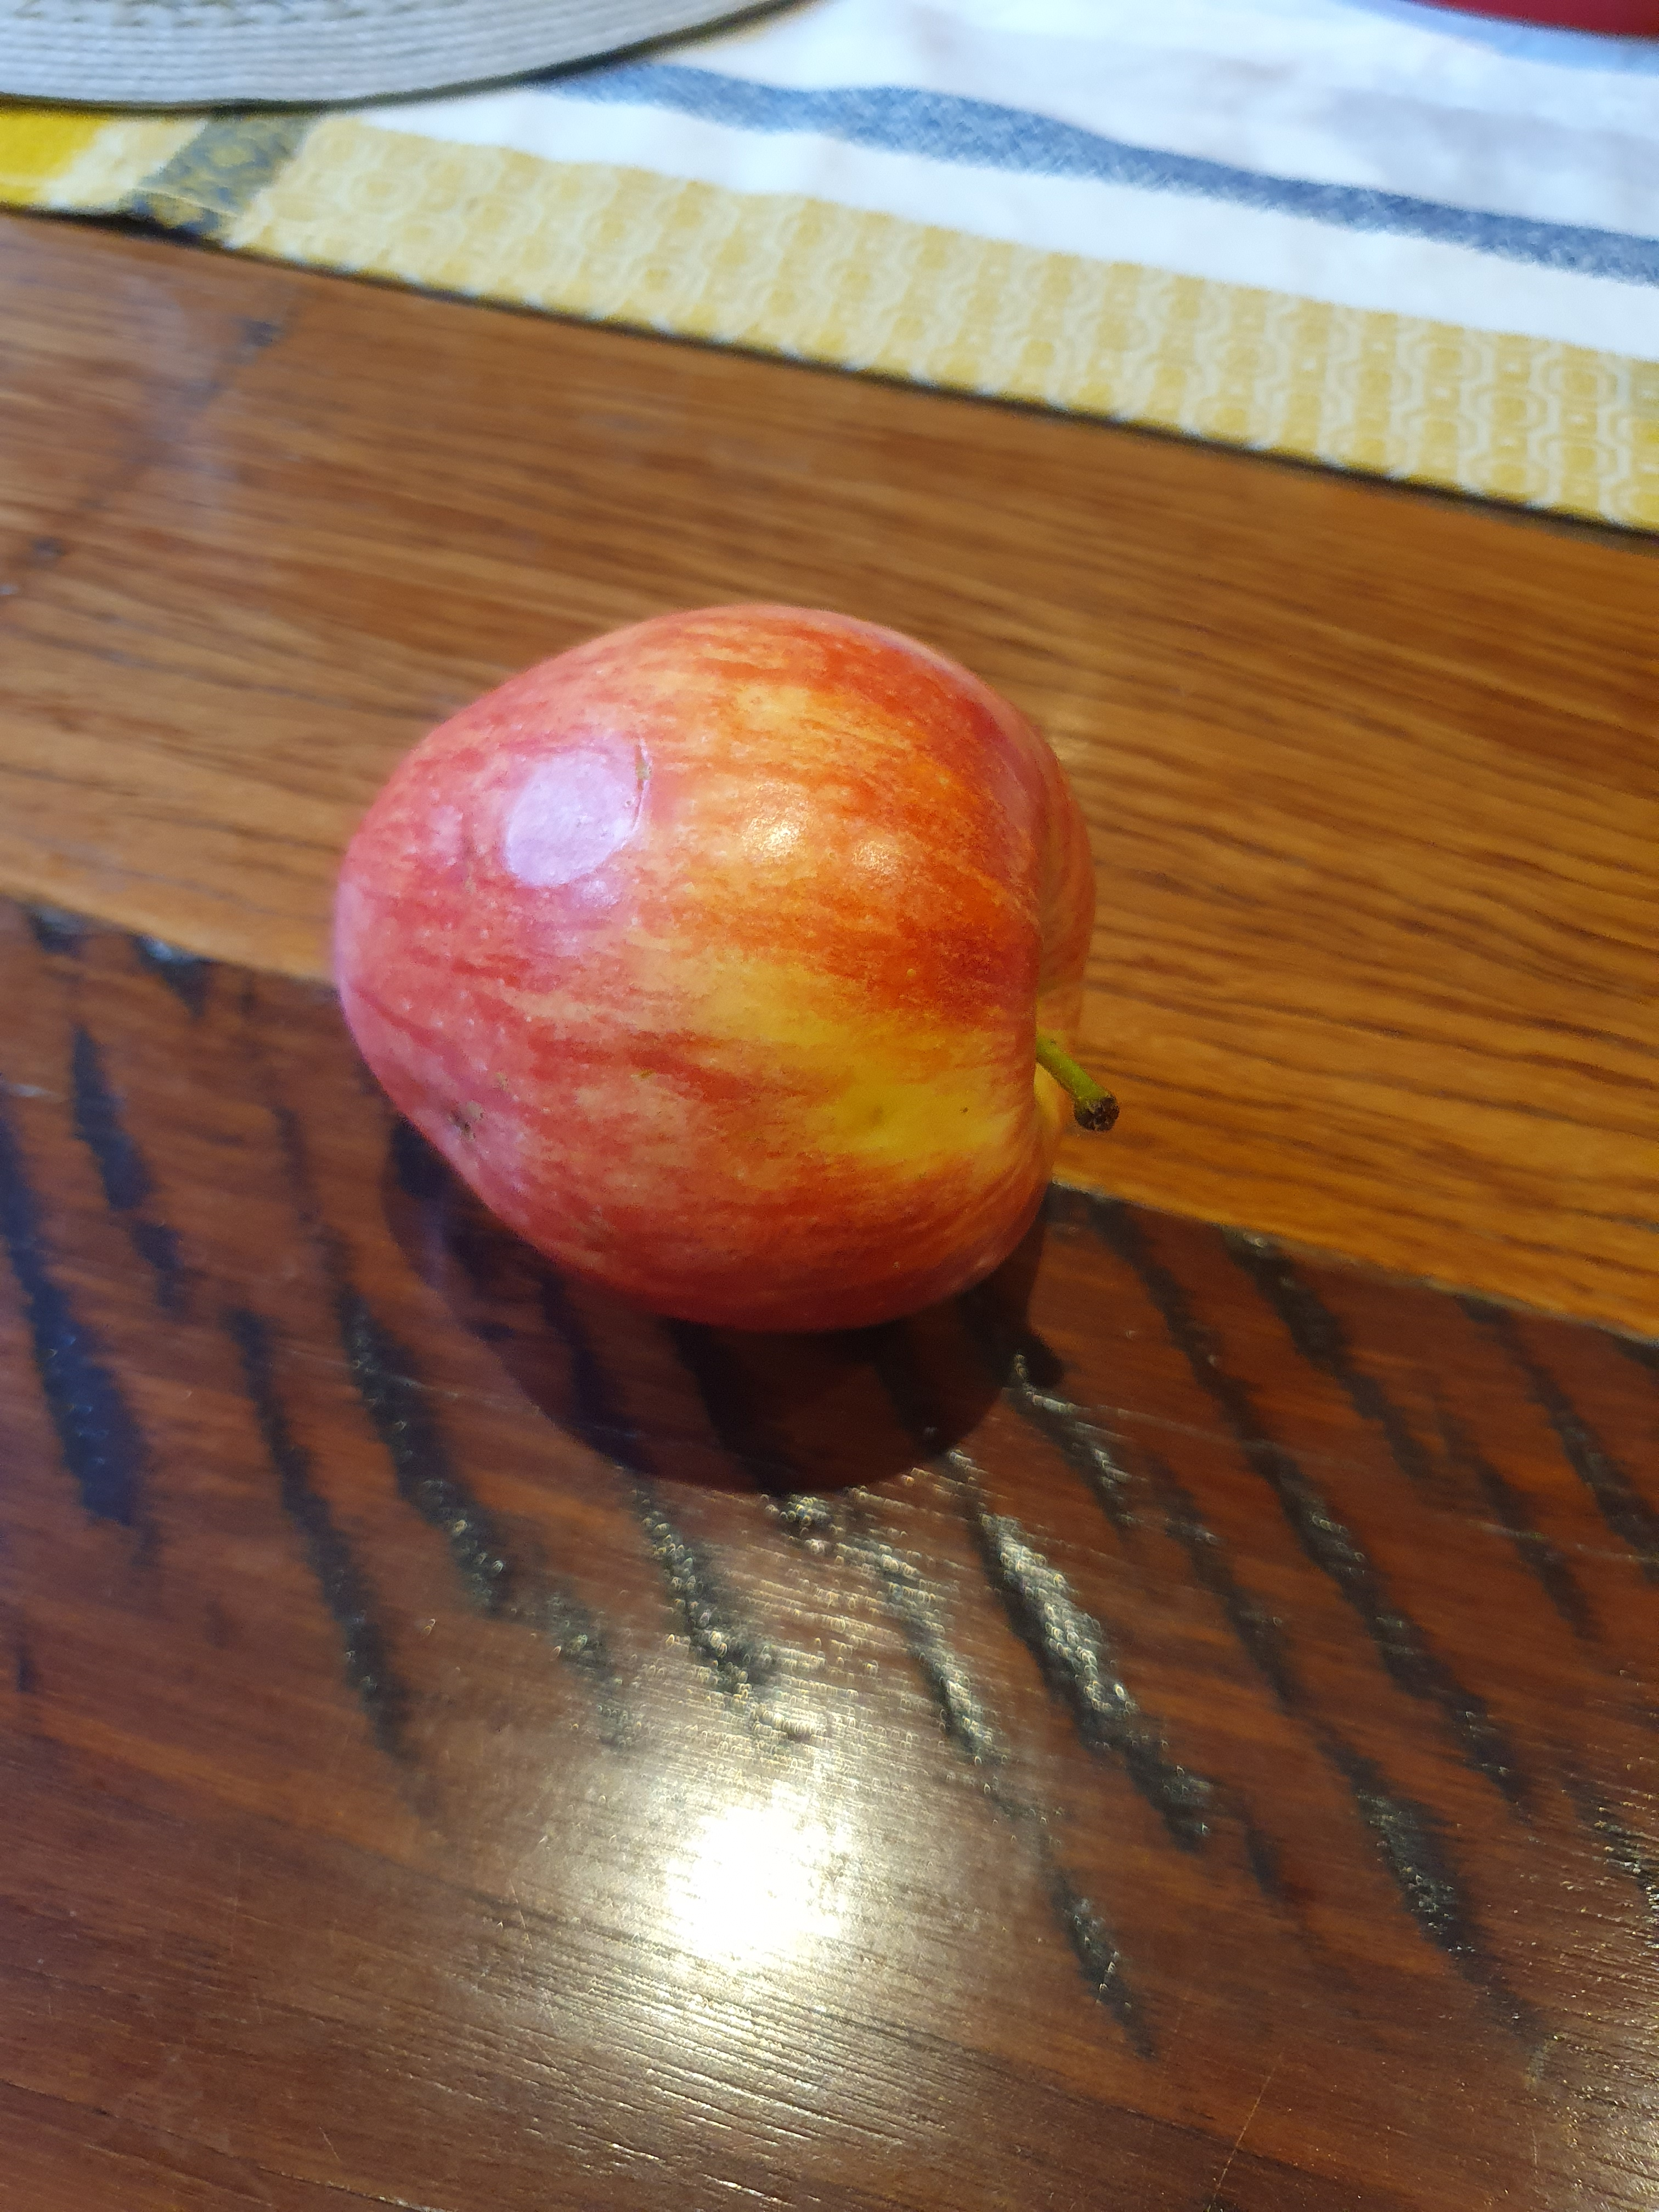red apple: (301, 557, 1140, 1338)
